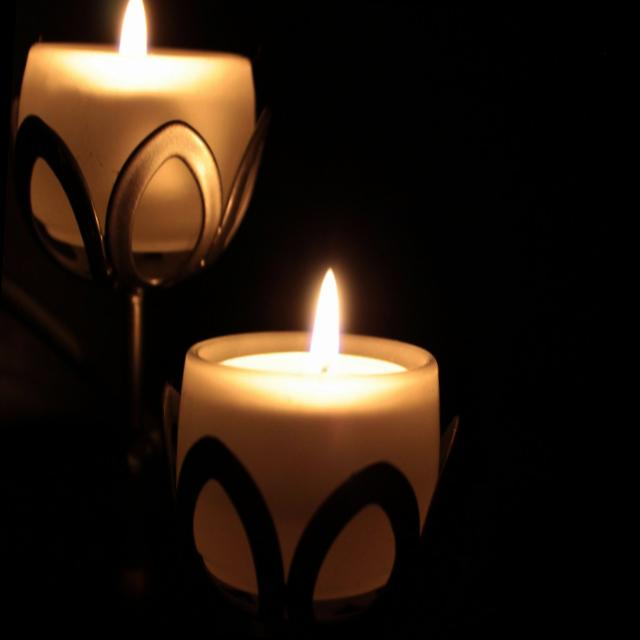Fire_Save: (166, 256, 454, 620), (7, 0, 266, 292)
